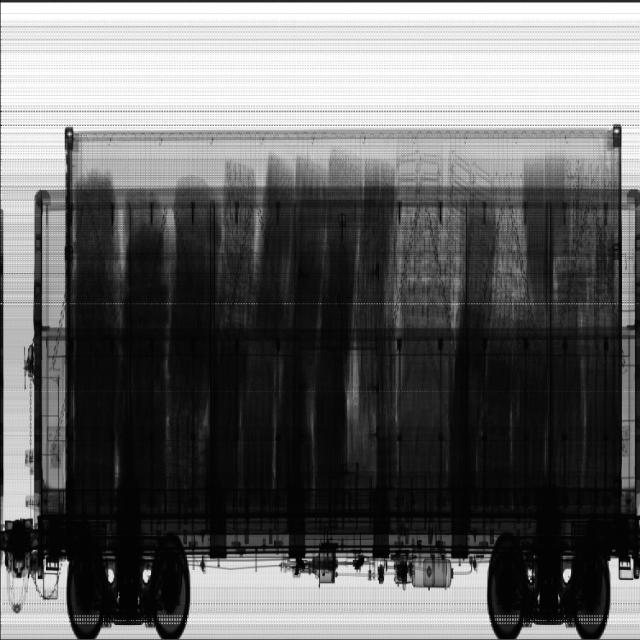clothes: (71, 172, 219, 508)
